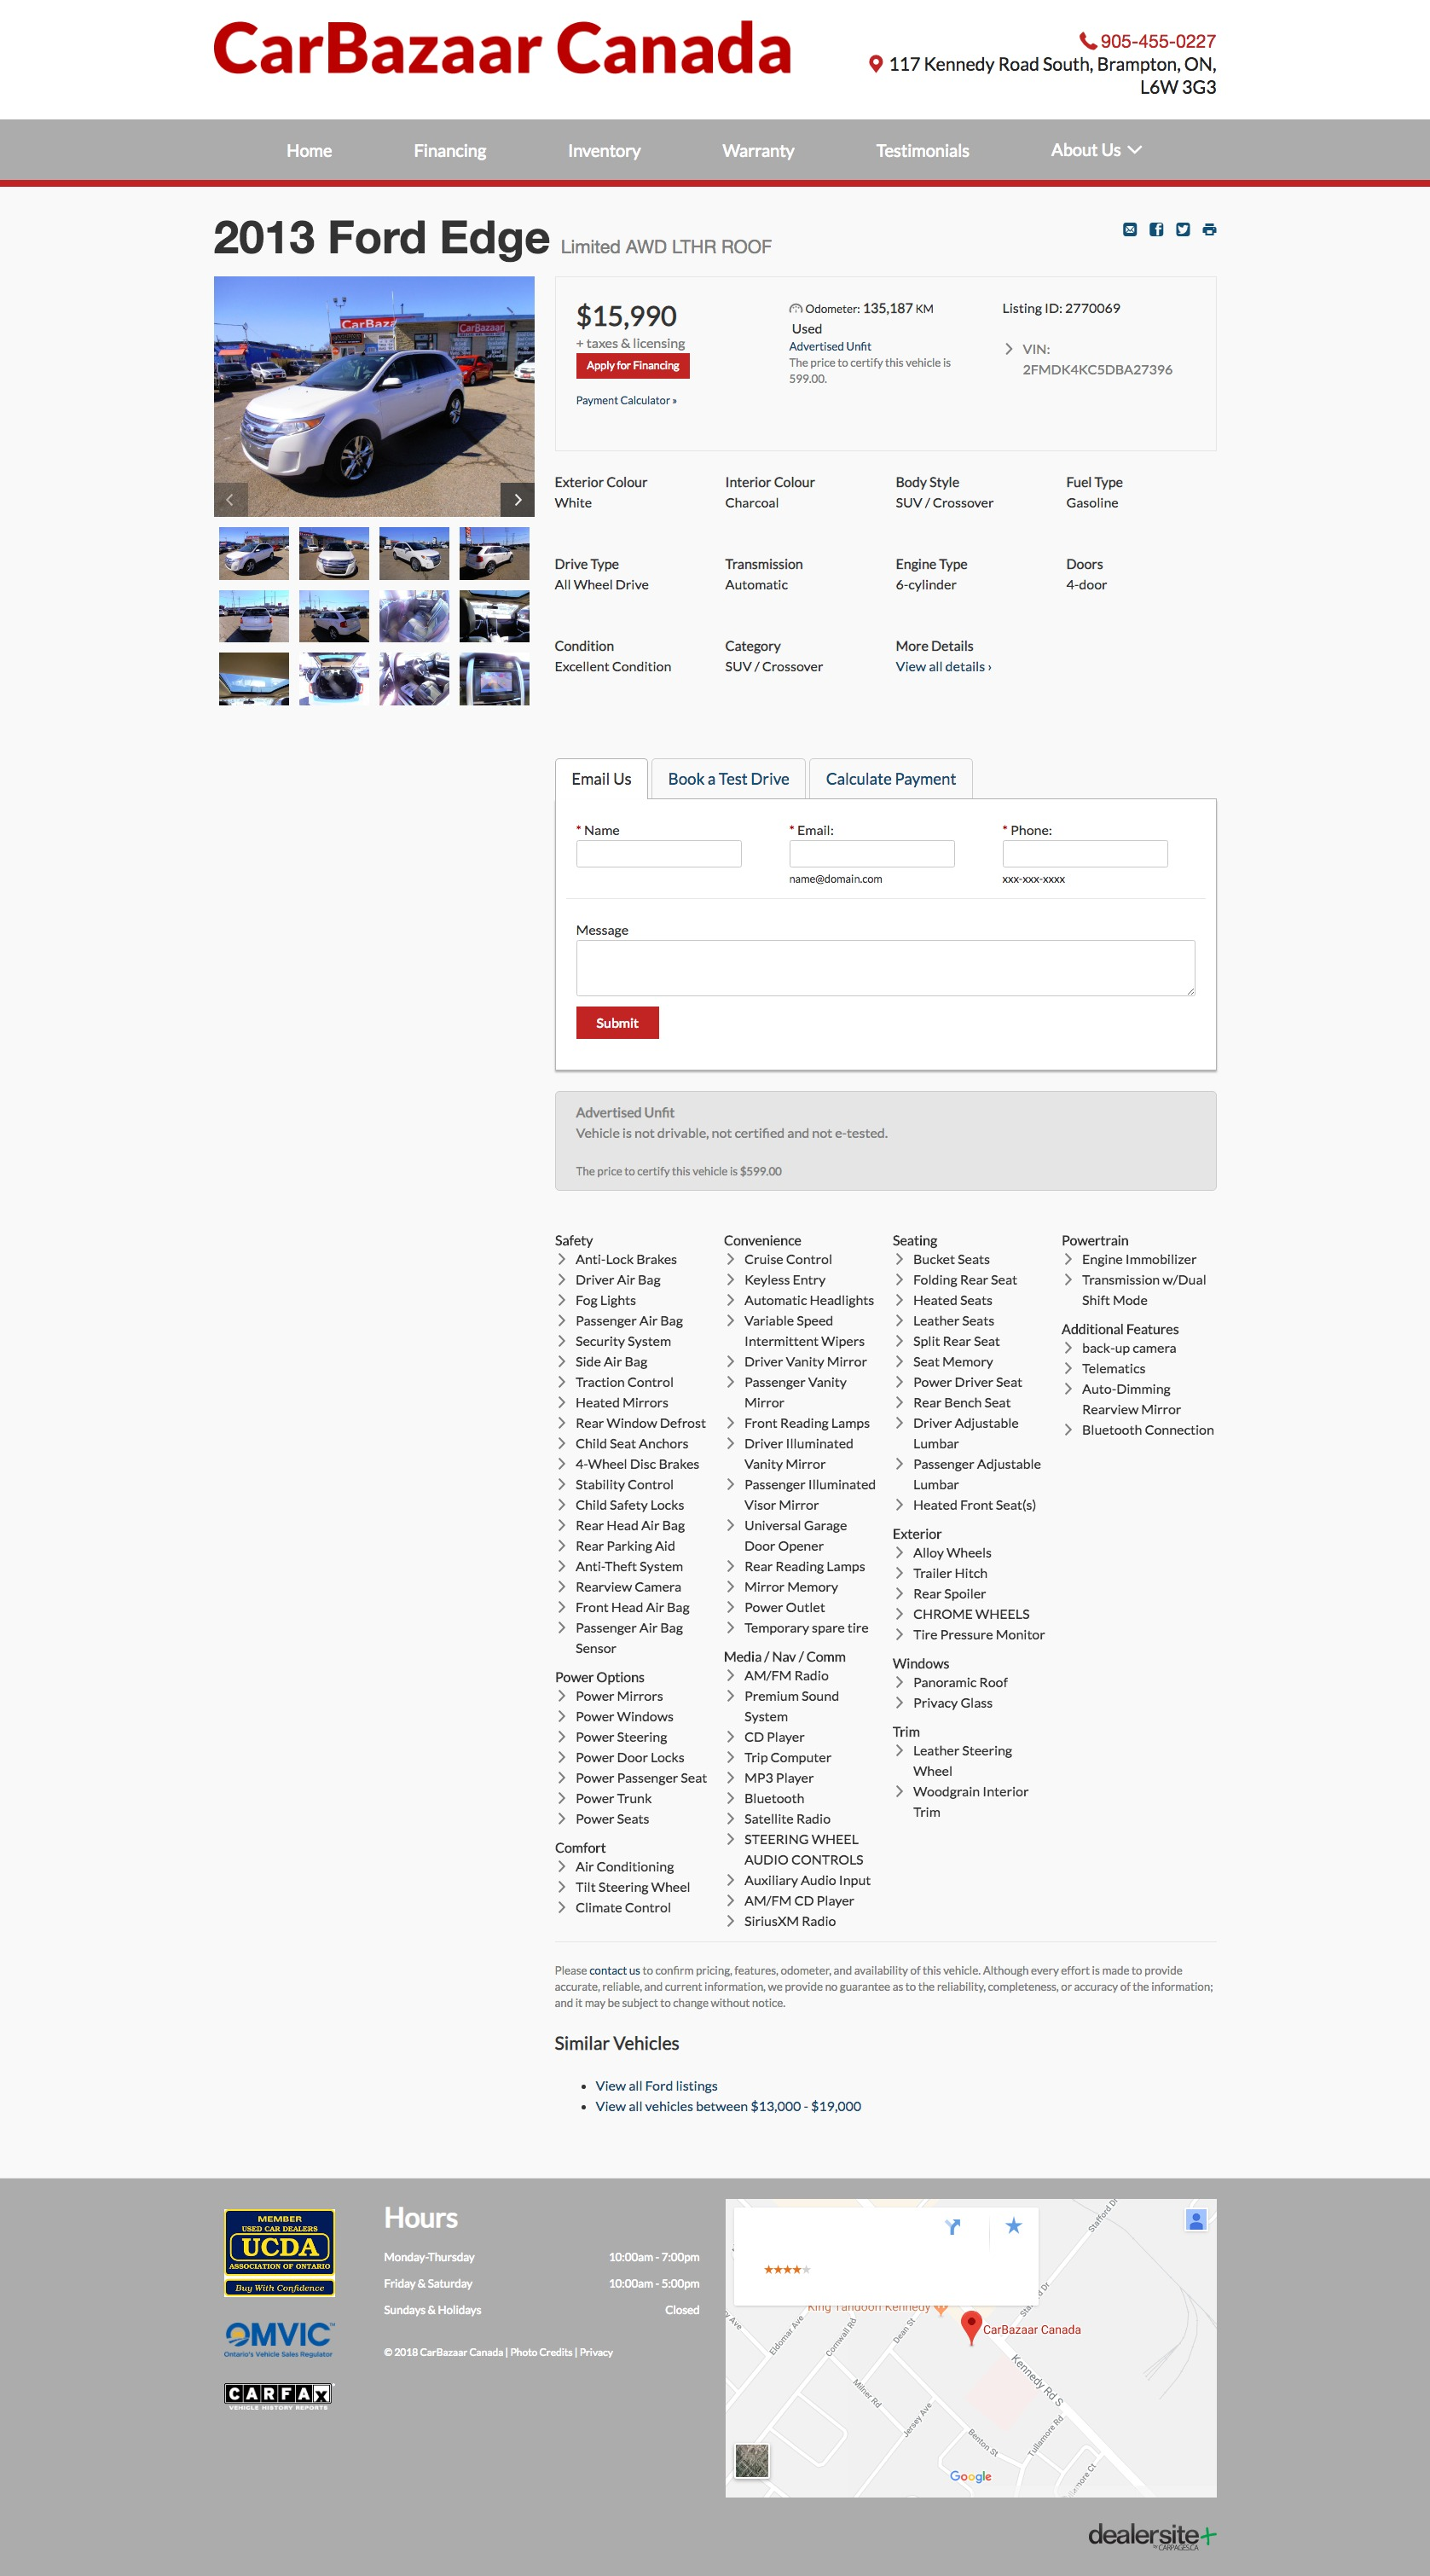car: (498, 481, 539, 519)
